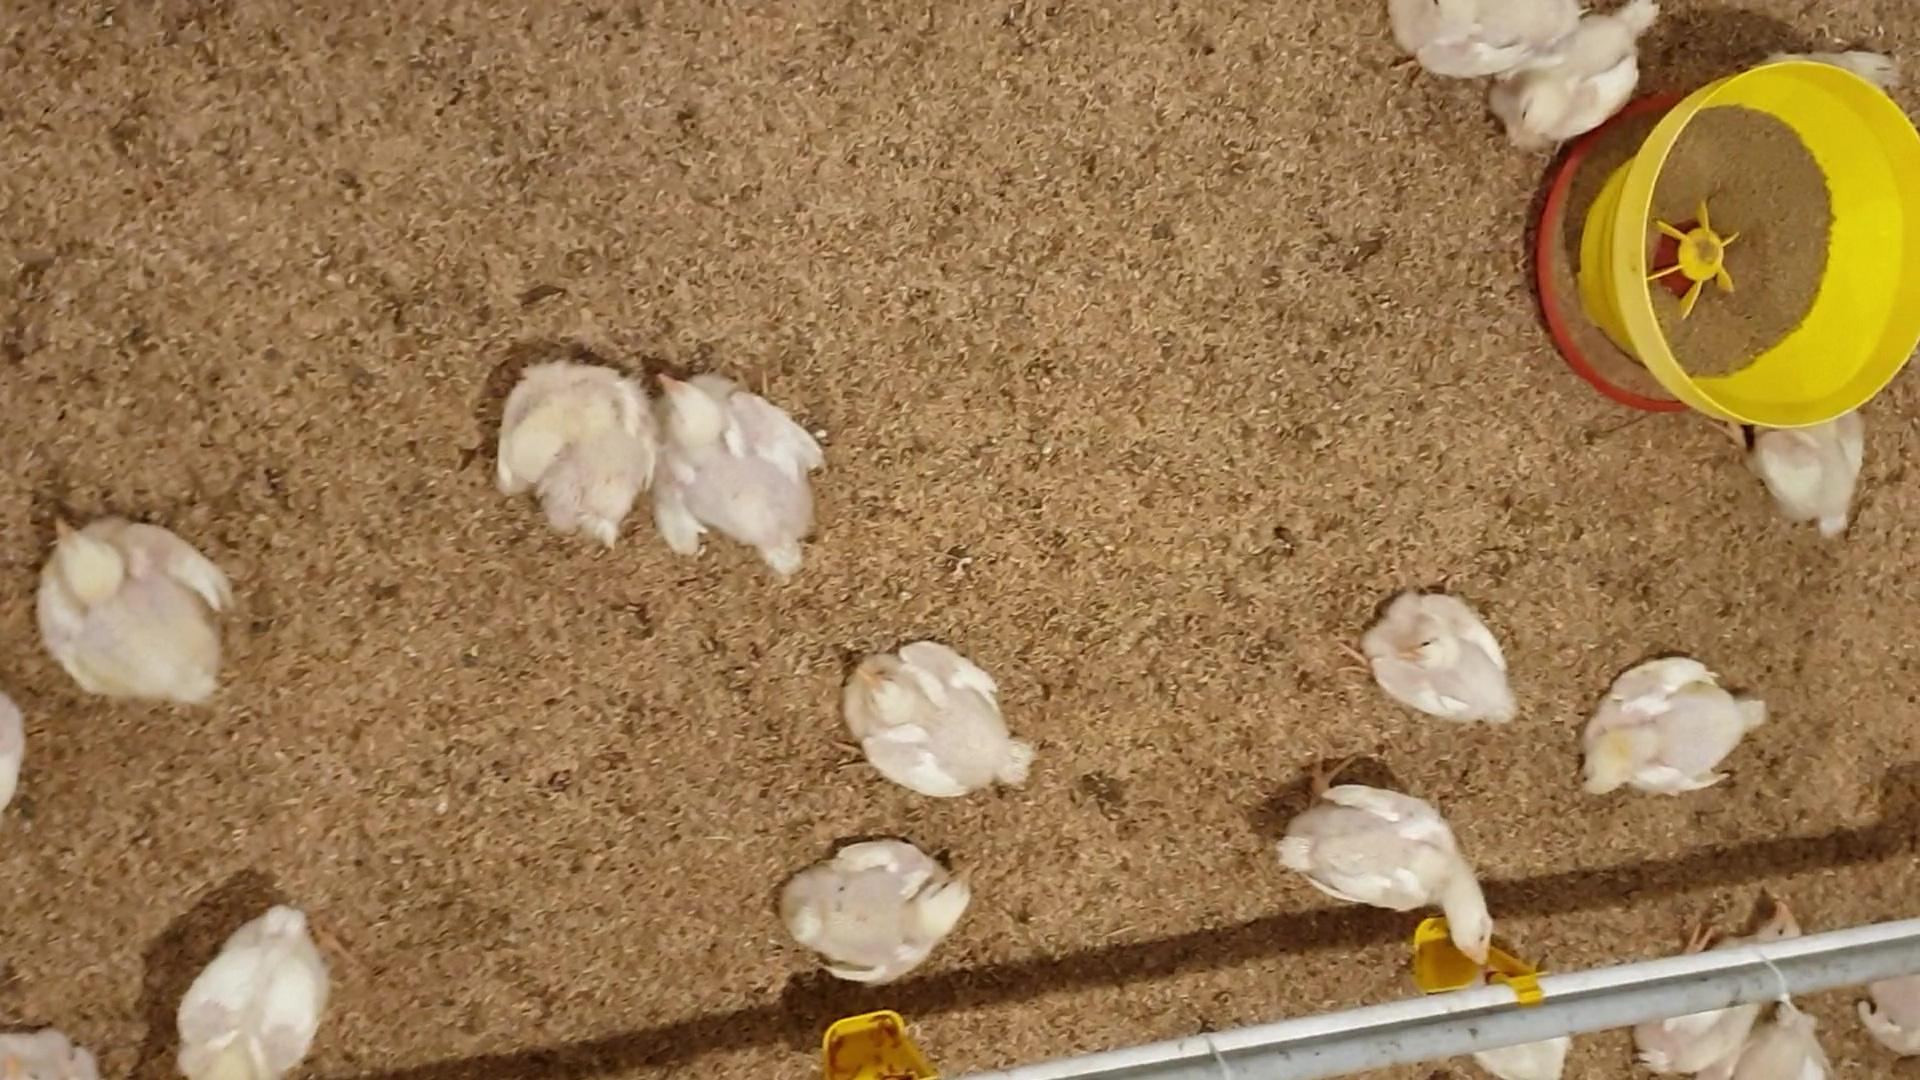Pollos: (1279, 761, 1495, 965), (38, 504, 240, 712), (771, 837, 982, 1001), (1563, 644, 1775, 804), (659, 361, 822, 559), (833, 640, 1043, 793), (492, 353, 654, 541), (1481, 0, 1654, 161), (175, 906, 328, 1080), (1350, 588, 1523, 731)
